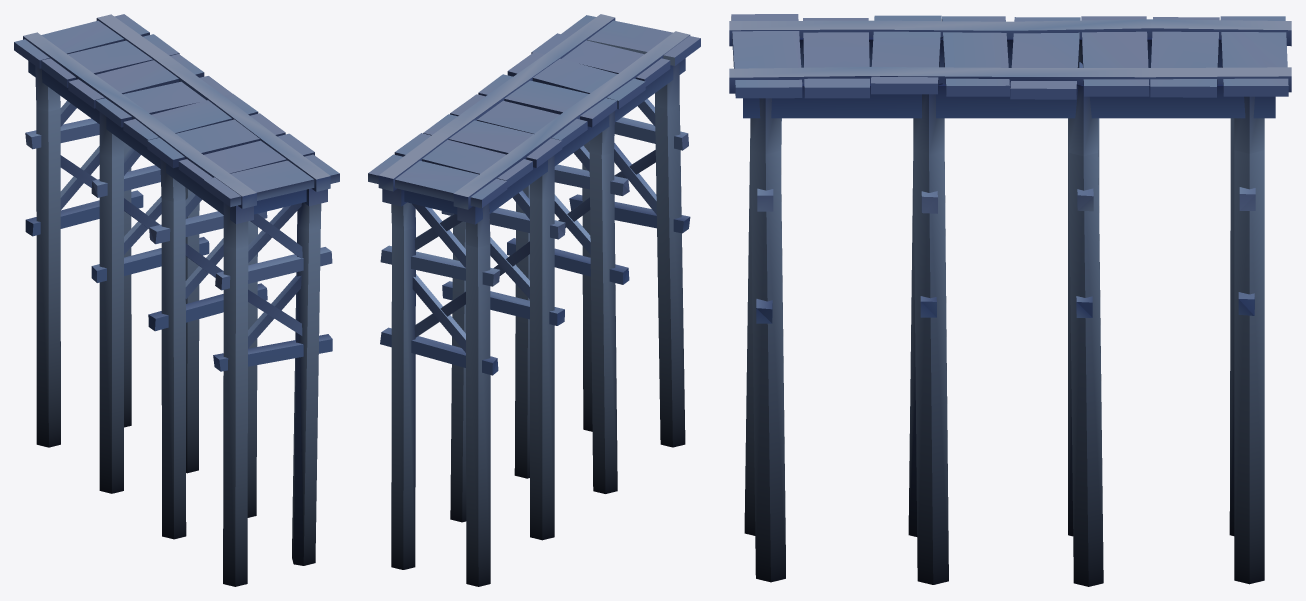
File: BridgeThin.gltf
The picture shows the model from 3 angles, left to right: view 1: azimuth 30°, elevation 25°; view 2: azimuth 150°, elevation 25°; view 3: azimuth 270°, elevation 25°; orthographic projection. The views are drawn at different scales.
Parts seen in each view (by area): view 1: BridgeThinMesh; view 2: BridgeThinMesh; view 3: BridgeThinMesh.
Part boxes in pixels (x1=…): BridgeThinMesh: x1=14, y1=14, x2=339, y2=586; BridgeThinMesh: x1=368, y1=14, x2=700, y2=586; BridgeThinMesh: x1=729, y1=14, x2=1291, y2=586.
Bounding box in the file's own units: 3.14 × 10.05 × 10.11.
